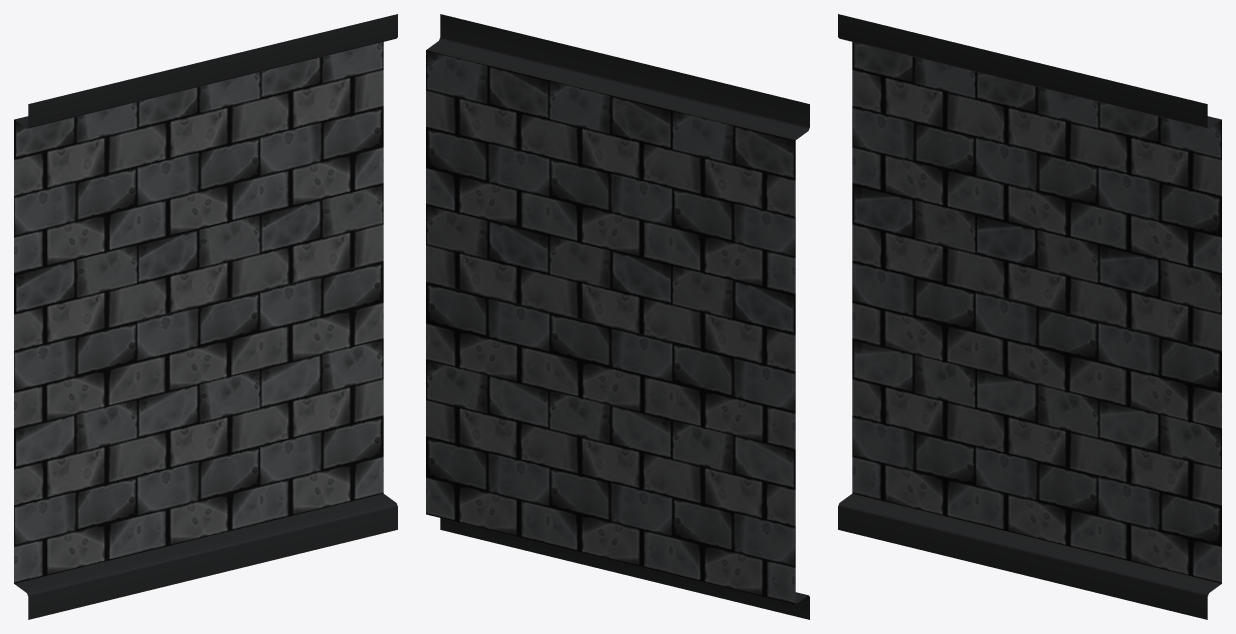
Rendered from M_Wall_3m 1.fbx.
The picture shows the model from 3 angles, left to right: view 1: azimuth 30°, elevation 25°; view 2: azimuth 150°, elevation 25°; view 3: azimuth 330°, elevation 25°; orthographic projection.
Visible parts, largest first — view 1: Wall_Big4; view 2: Wall_Big4; view 3: Wall_Big4.
Boxes of the visible parts, x1=… form: Wall_Big4: x1=14, y1=14, x2=397, y2=619; Wall_Big4: x1=426, y1=14, x2=809, y2=619; Wall_Big4: x1=838, y1=14, x2=1221, y2=619.
Bounding box in the file's own units: 300 × 400 × 20.
